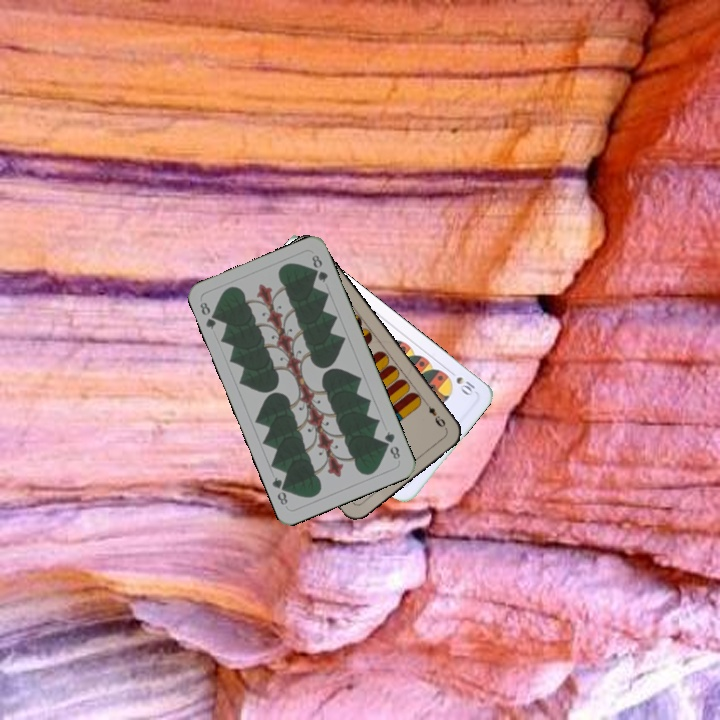E9: (422, 397, 448, 430)
G8: (196, 298, 222, 332), (380, 427, 403, 462)
S10: (444, 366, 478, 398)
